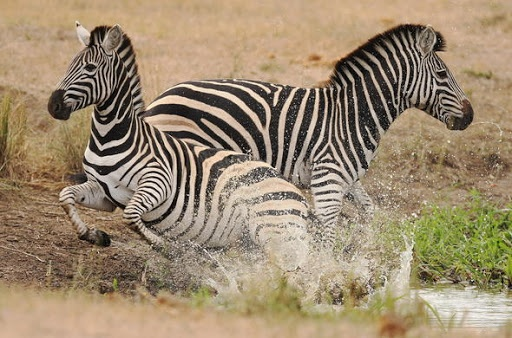zebra: (138, 21, 475, 272), (46, 18, 330, 302)
